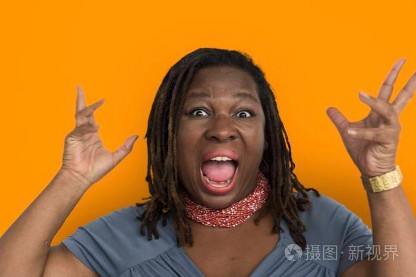张嘴: (195, 149, 241, 194)
